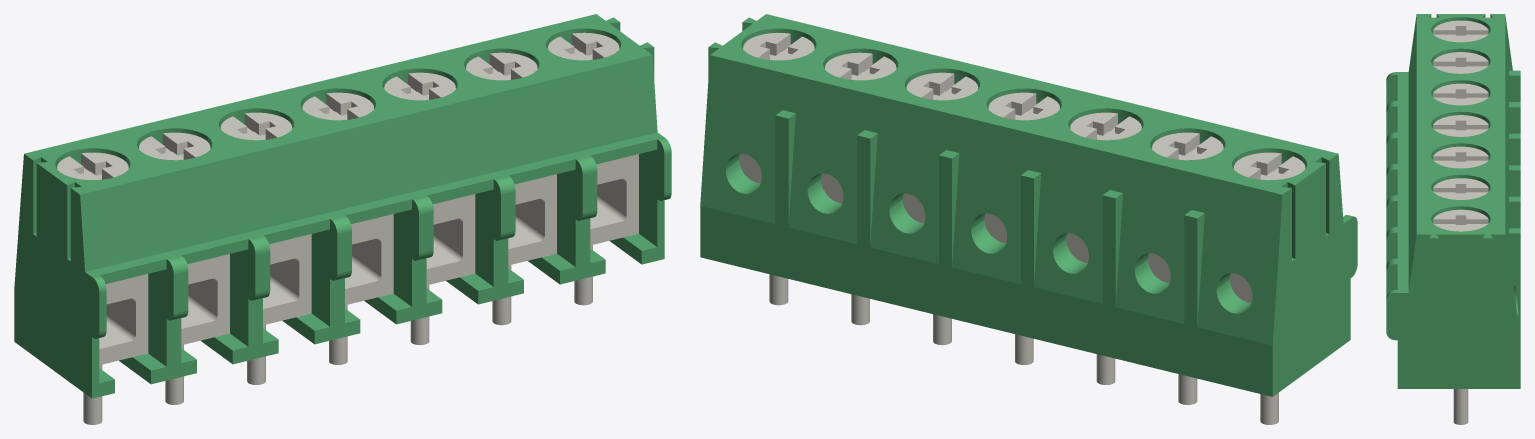
The model's file is kc-terminalblock_phoenix_pt-1_5-7-5.0-h_1x07_p5.00mm_horizontal.glb.
The picture shows the model from 3 angles, left to right: view 1: azimuth 30°, elevation 25°; view 2: azimuth 150°, elevation 25°; view 3: azimuth 270°, elevation 25°; orthographic projection. The views are drawn at different scales.
Parts seen in each view (by area): view 1: 0.08333333333333333_0.4166666666666667_0.16666666666666666_0, 0.6666666666666666_0.6666666666666666_0.5833333333333334_0.8; view 2: 0.08333333333333333_0.4166666666666667_0.16666666666666666_0, 0.6666666666666666_0.6666666666666666_0.5833333333333334_0.8; view 3: 0.08333333333333333_0.4166666666666667_0.16666666666666666_0, 0.6666666666666666_0.6666666666666666_0.5833333333333334_0.8.
Part boxes in pixels (x1,y1,x2,y2): 0.08333333333333333_0.4166666666666667_0.16666666666666666_0: (14,14,671,398); 0.6666666666666666_0.6666666666666666_0.5833333333333334_0.8: (57,32,638,424); 0.08333333333333333_0.4166666666666667_0.16666666666666666_0: (700,14,1357,396); 0.6666666666666666_0.6666666666666666_0.5833333333333334_0.8: (739,32,1305,424); 0.08333333333333333_0.4166666666666667_0.16666666666666666_0: (1386,14,1520,388); 0.6666666666666666_0.6666666666666666_0.5833333333333334_0.8: (1433,20,1488,424).
Size of the model in its own units: 3.56 by 1.5 by 0.9002.
